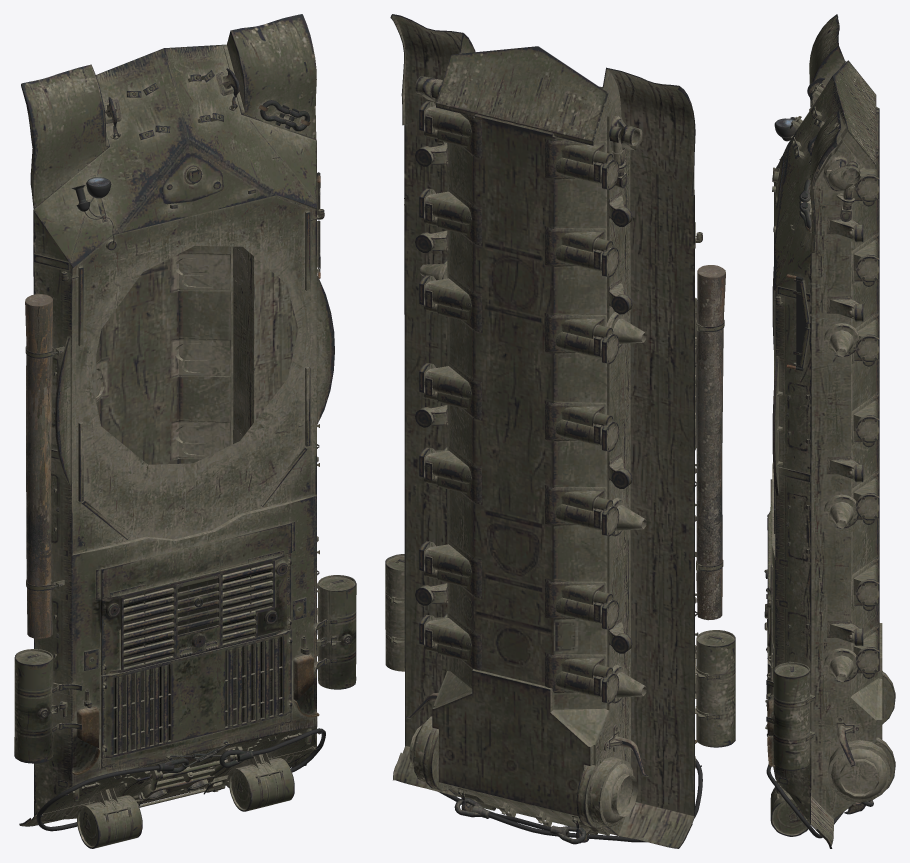
File: Hull.glb
3 views of the same model, side by side, from view 1: azimuth 30°, elevation 25°; view 2: azimuth 150°, elevation 25°; view 3: azimuth 270°, elevation 25° (orthographic). The views are drawn at different scales.
Parts seen in each view (by area): view 1: set_0_group_0; view 2: set_0_group_0; view 3: set_0_group_0.
Boxes of the visible parts, x1=… form: set_0_group_0: x1=14, y1=14, x2=356, y2=848; set_0_group_0: x1=385, y1=14, x2=735, y2=848; set_0_group_0: x1=764, y1=14, x2=895, y2=848.
Bounding box in the file's own units: 3.63 × 7.81 × 1.3.
Materials: 1 (1 with a texture image).
